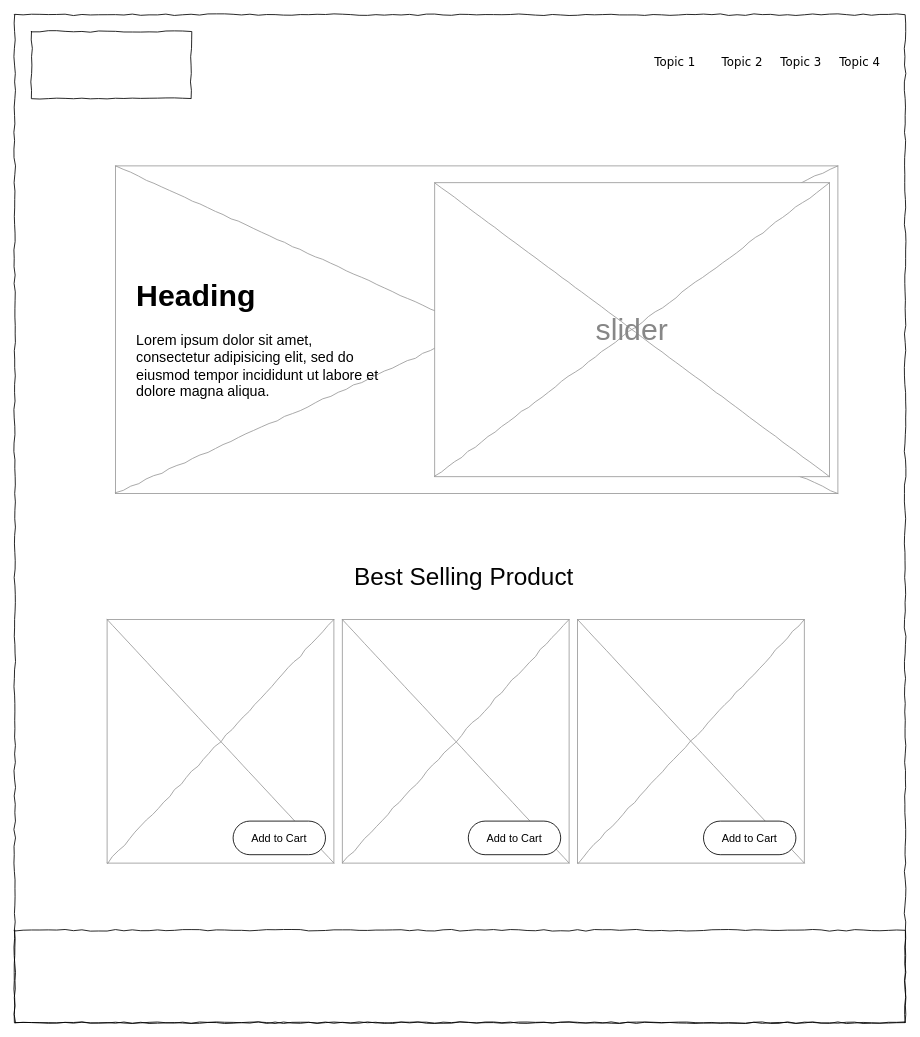
The diagram is 920 pixels wide and 1037 high, and some of its shapes have lost their labels. The centre of each missing label's shape, as x and y in pixels:
"footer" belongs at pixel 459 976.
"LOGO" belongs at pixel 111 65.
